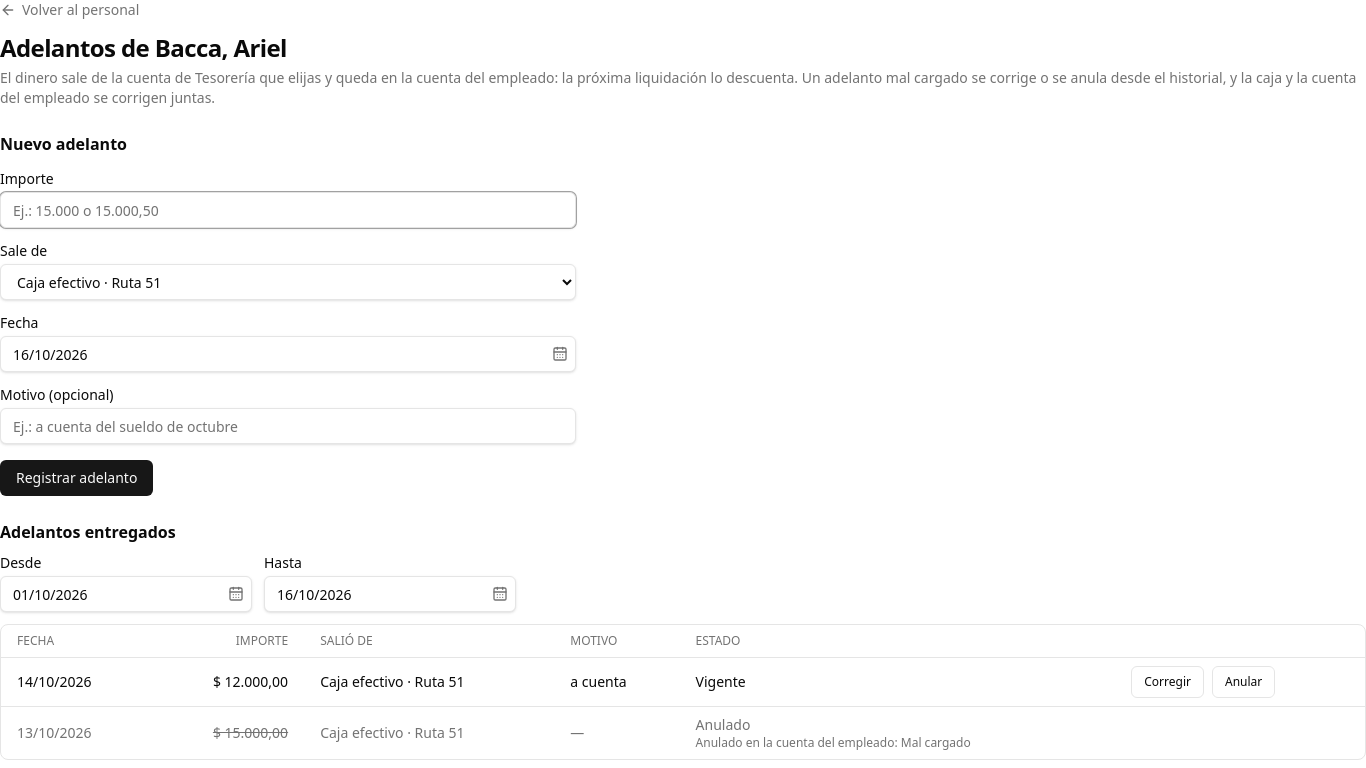
Test case: EmployeeAdvancePage › explains why an advance in a draft payroll is not voided
Step 1. Click the button with aria-label "Anular el adelanto del 14/10/2026" → coordinates (1244, 682), box [1212,666,1275,698]
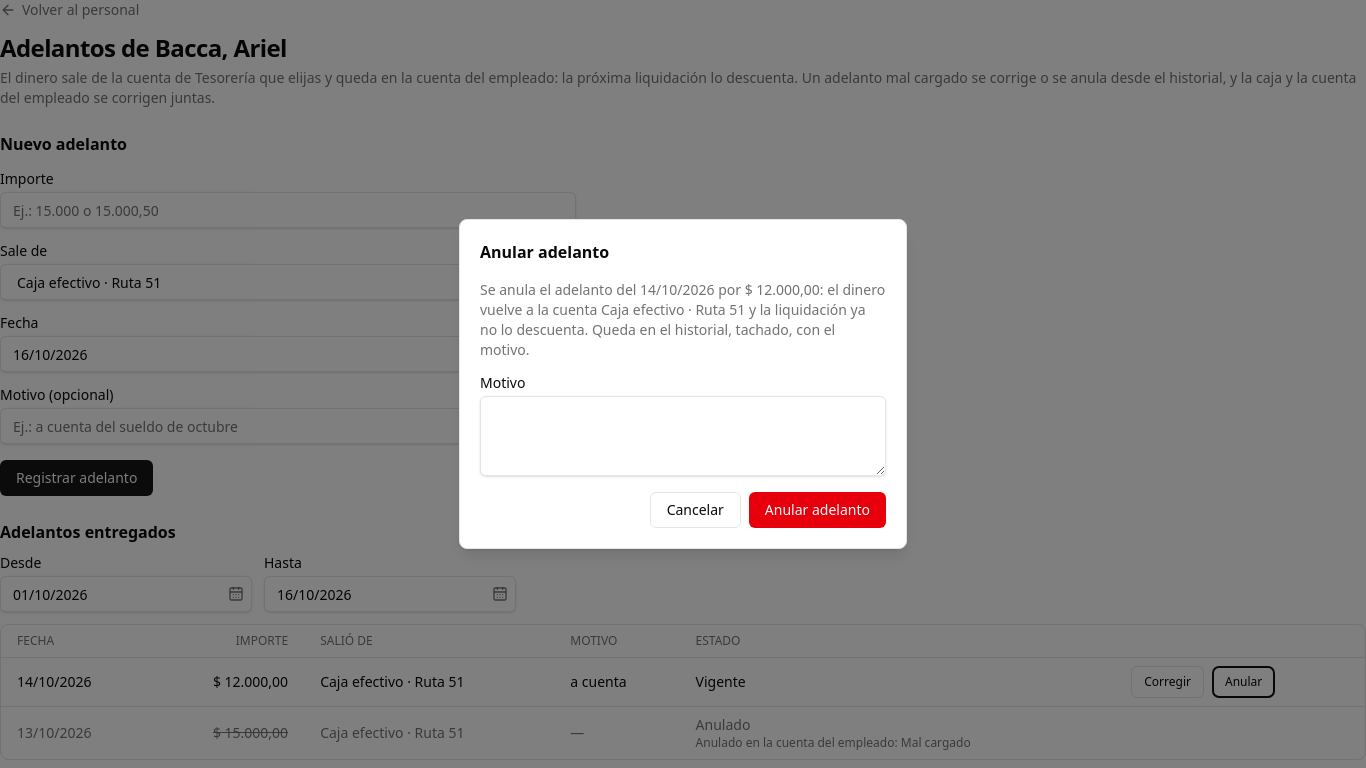
Step 2. Type "x" into the text box labelled "Motivo" → coordinates (683, 436), box [480,396,886,476]
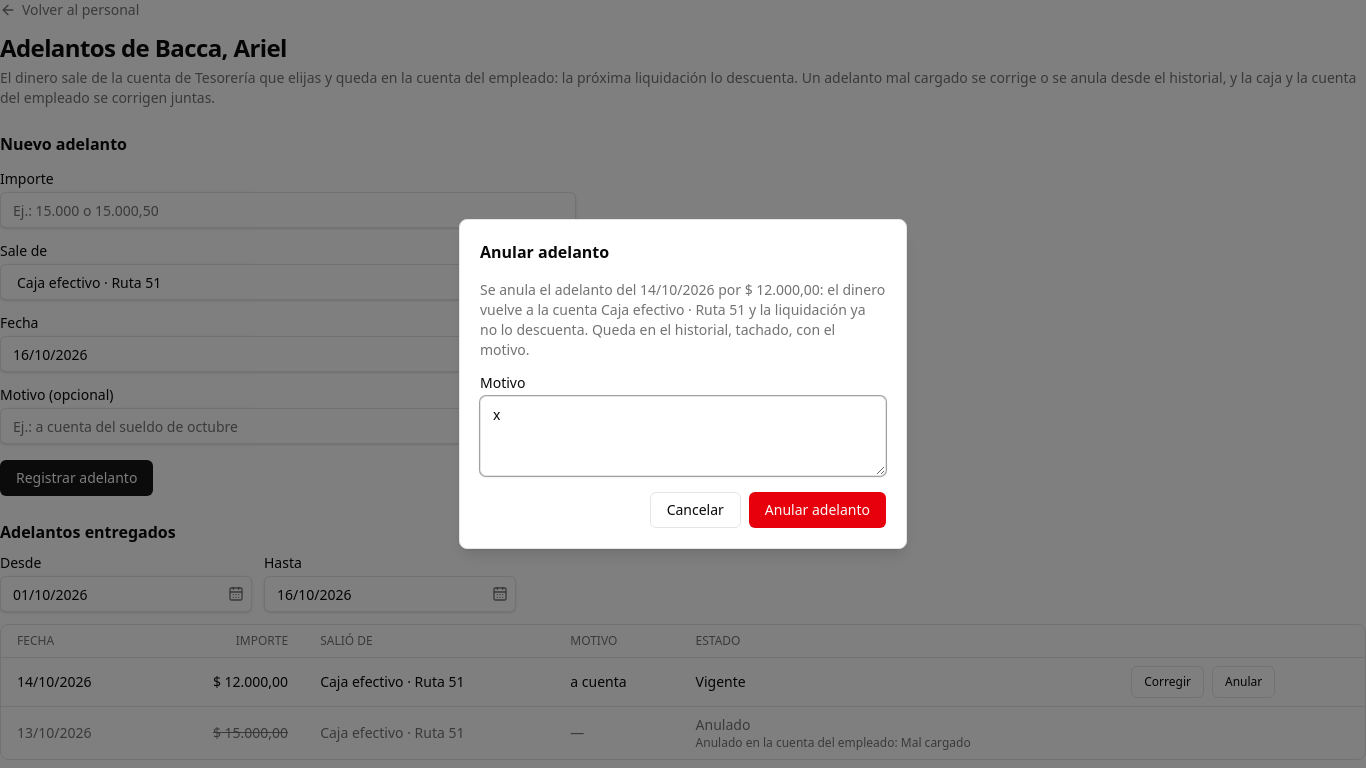
Step 3. Click the button "Anular adelanto" → coordinates (817, 510), box [749,492,886,528]
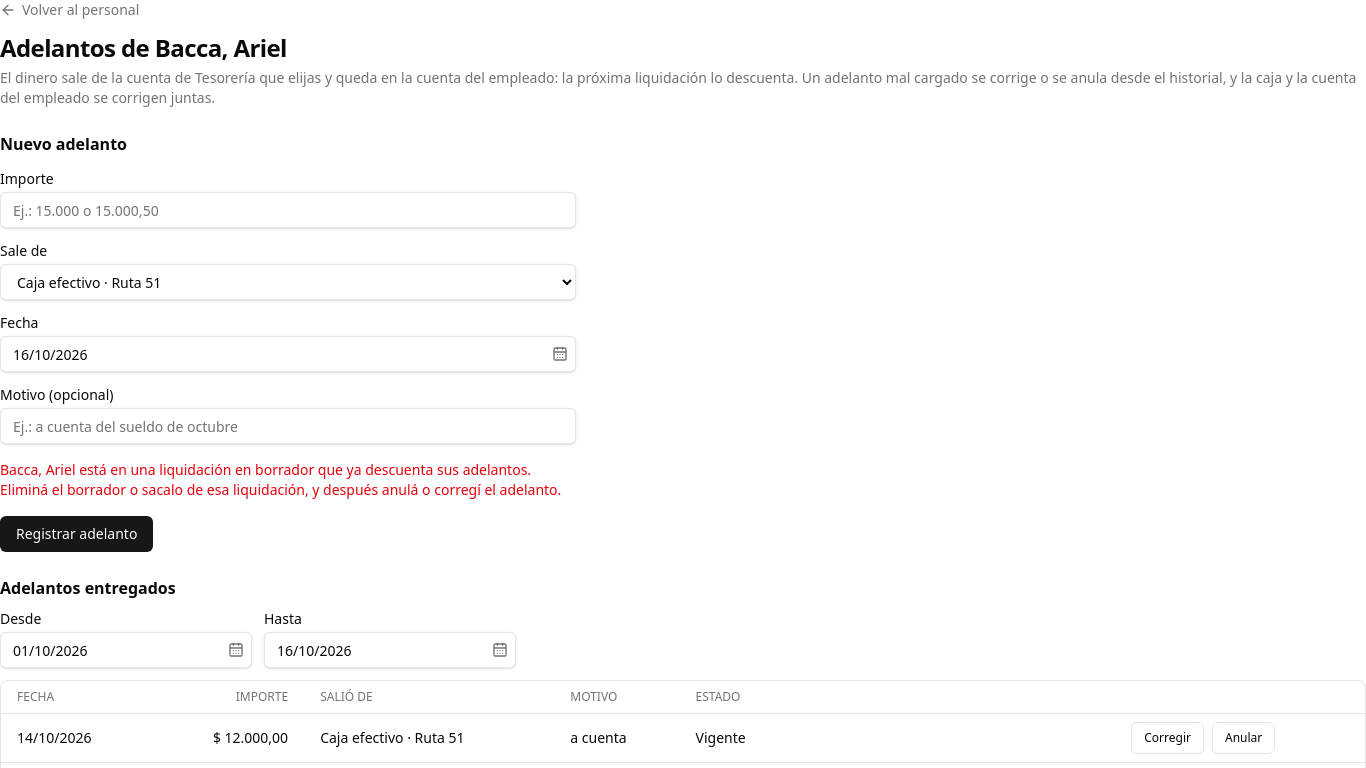
Check: the text "está en una liquidación en borrador" is shown, box [0,460,561,499]
